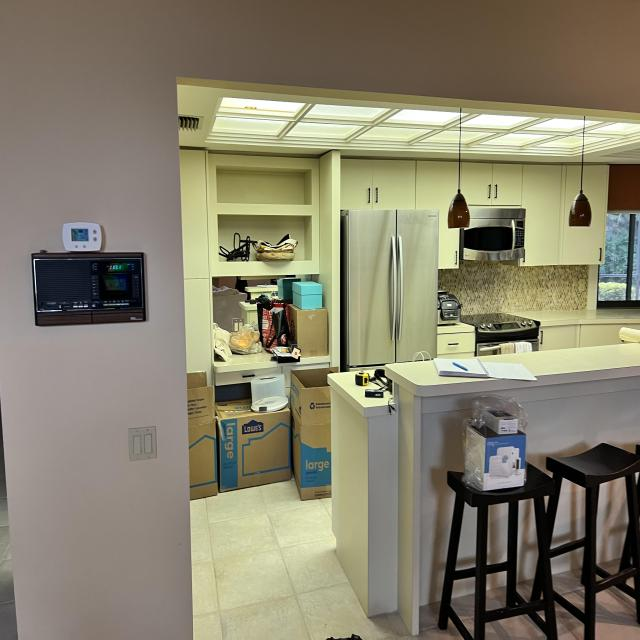Appliance_Fridge: (340, 209, 440, 371)
Appliance_Microwave: (459, 206, 525, 266)
Appliance_Oven: (459, 313, 543, 357)
Cabinet_Flat: (342, 159, 608, 270), (539, 326, 623, 351), (438, 333, 474, 355)
Countertop_Laminate: (384, 343, 640, 396), (329, 371, 394, 409), (511, 311, 640, 329)
